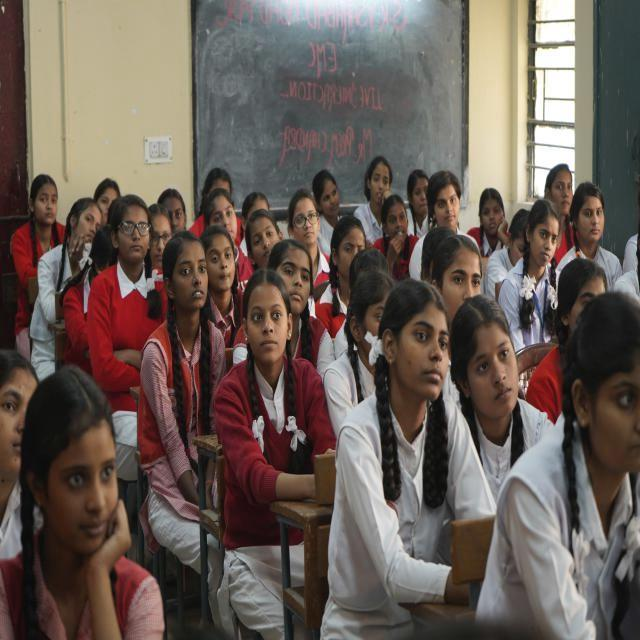Looking away: (321, 179, 340, 215)
Looking forward: (47, 421, 116, 551), (392, 302, 448, 398), (468, 326, 517, 416), (0, 366, 40, 473), (439, 249, 482, 324), (246, 288, 289, 362), (170, 238, 207, 308), (278, 248, 314, 312), (115, 205, 152, 260), (207, 234, 235, 290), (248, 216, 278, 266), (68, 205, 99, 251), (339, 226, 366, 276), (574, 198, 606, 240), (431, 176, 457, 226), (290, 197, 316, 247), (548, 168, 574, 214), (530, 218, 556, 264), (210, 196, 236, 240), (480, 194, 506, 237), (148, 217, 171, 264), (32, 186, 58, 226), (366, 162, 391, 202), (384, 204, 408, 242)
